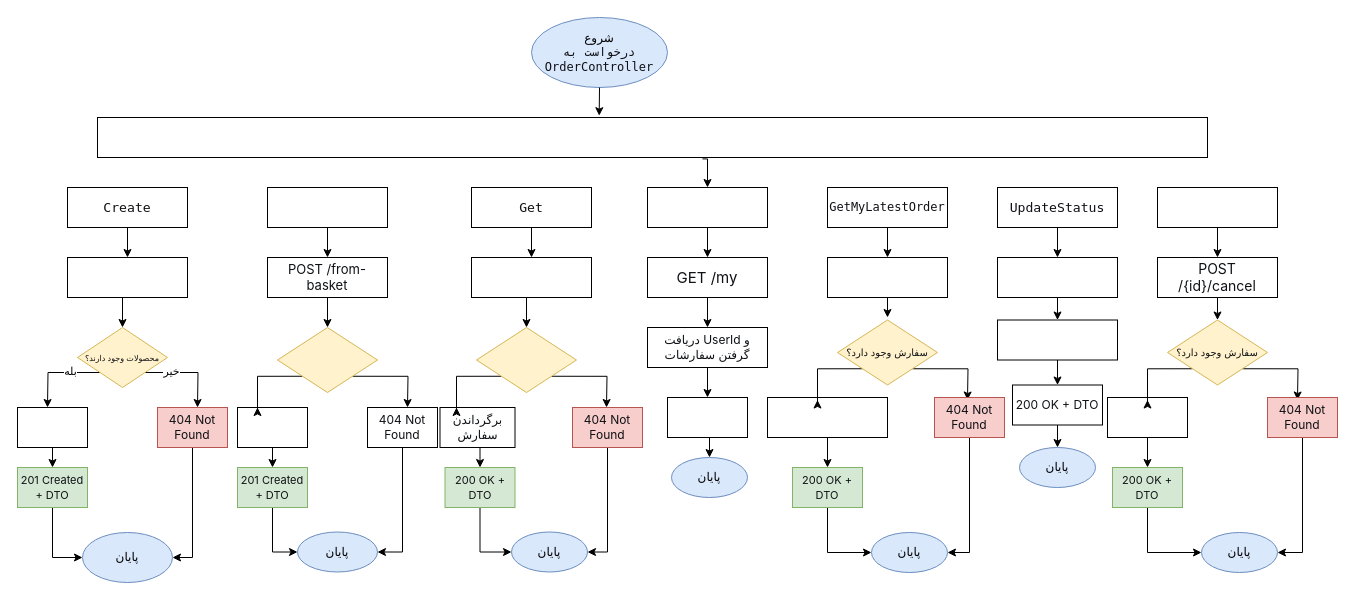
The diagram is 1355 pixels wide and 600 high, and some of its shapes have lost their labels. The box of each missing label's shape, as (x1, y1, x2, y2) in pixels:
200 OK + List: (666, 396, 748, 438)
Cancel: (1156, 186, 1278, 228)
CreateOrderFromBasket: (266, 186, 388, 228)
GET /my/latest: (826, 256, 948, 298)
GET /{id}: (470, 256, 592, 298)
GetMyOrders: (646, 186, 768, 228)
HTTP Method + Routeبرسی: (96, 116, 1208, 158)
POST /: (66, 256, 188, 298)
PUT /status: (996, 256, 1118, 298)
ایجاد سفارش: (16, 406, 88, 448)
ایجاد سفارش از سبد: (236, 406, 308, 448)
برگرداندن آخرین سفارش: (766, 396, 888, 438)
تغییر وضعیت سفارش (ادمین): (996, 319, 1118, 360)
دسترسی مجاز؟ (ادمین یا خود کاربر): (476, 326, 576, 392)
سبد خالی یا نبود؟: (276, 326, 378, 392)
لغو سفارش: (1106, 396, 1188, 438)
